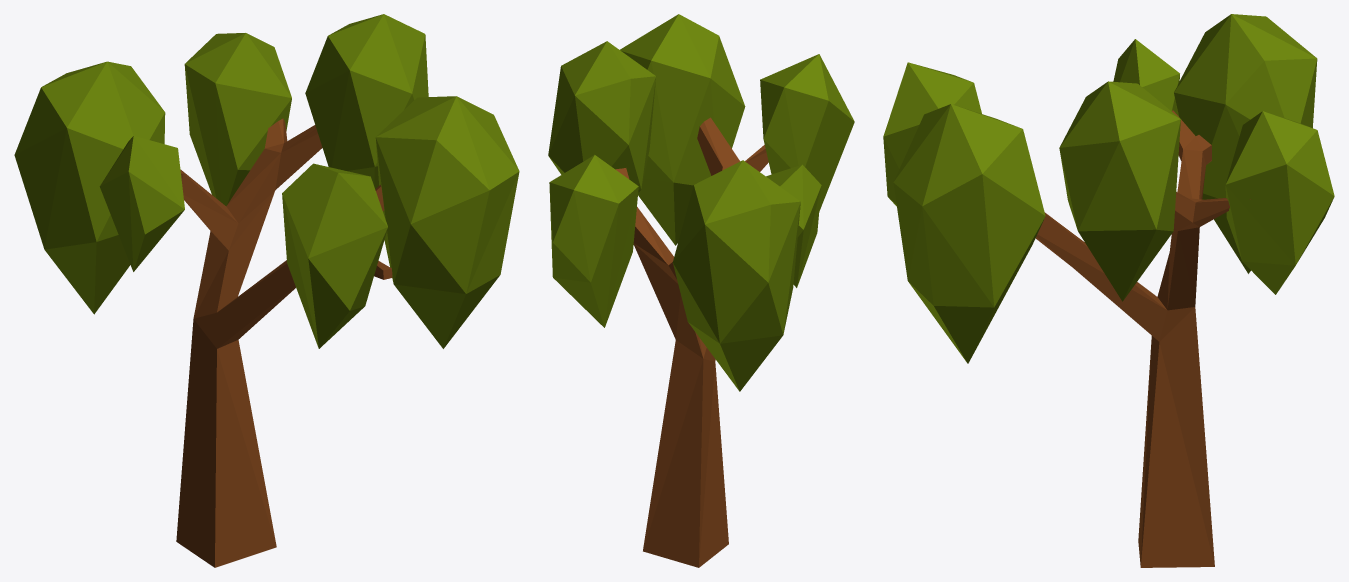
File: Willow1.fbx
3 views of the same model, side by side, from view 1: azimuth 30°, elevation 25°; view 2: azimuth 150°, elevation 25°; view 3: azimuth 270°, elevation 25° (orthographic). The views are drawn at different scales.
Visible parts, largest first — view 1: Willow1; view 2: Willow1; view 3: Willow1.
Boxes of the visible parts, bbox=[...] form: Willow1: bbox=[14, 14, 519, 567]; Willow1: bbox=[548, 14, 854, 567]; Willow1: bbox=[883, 14, 1334, 567].
Size of the model in its own units: 168 by 260 by 198.
